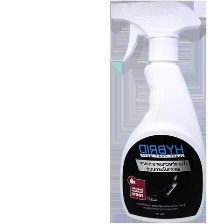cleaning_solution: (110, 0, 208, 224)
